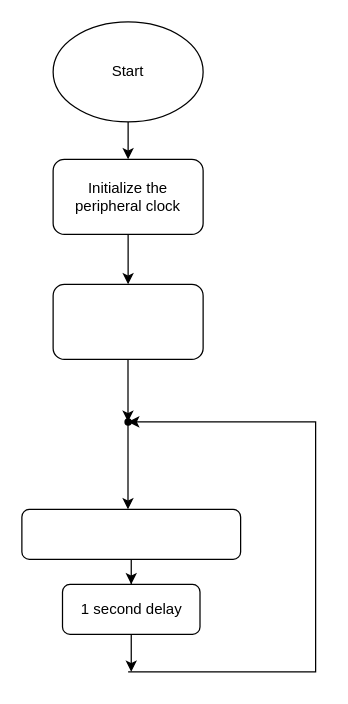
Image size: 348x704. Some labels were removed from this diagram. The centre of each missing label's shape, as x and y in pixels:
Initialize the TCF: (127,321)
NCO_Fixed_DutyCycle_Demo: (131,533)
